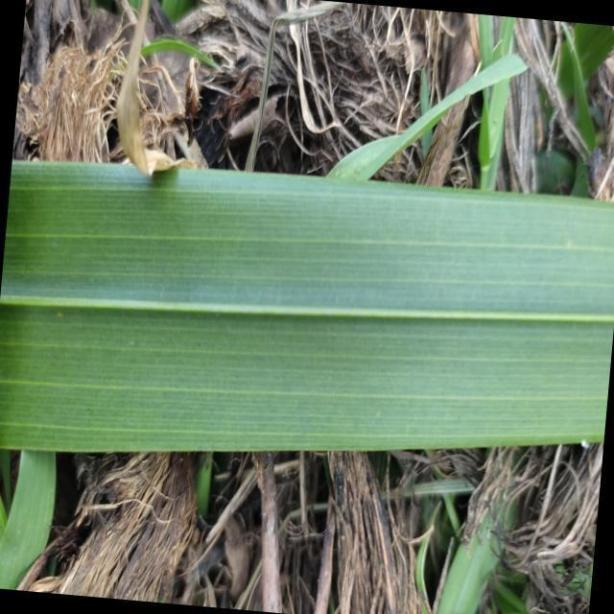Healthy: (0, 155, 614, 456)
